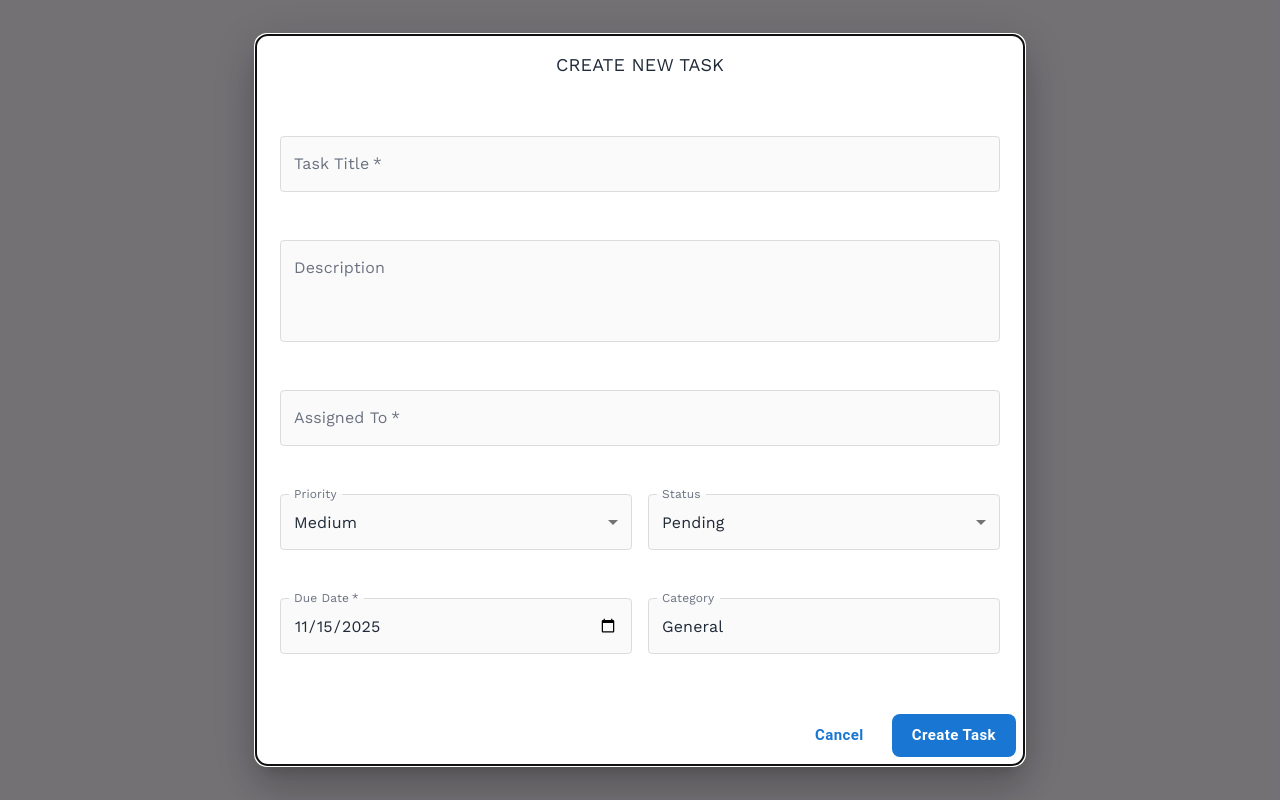
Scenario: CreateTodoDialog › displays error message when creation fails
Note: Fill required fields
Type "Test Task" into the field labelled "Task Title *".
click(640, 164); type("Test Task")  # box top-left (280, 136), bottom-right (1000, 192)
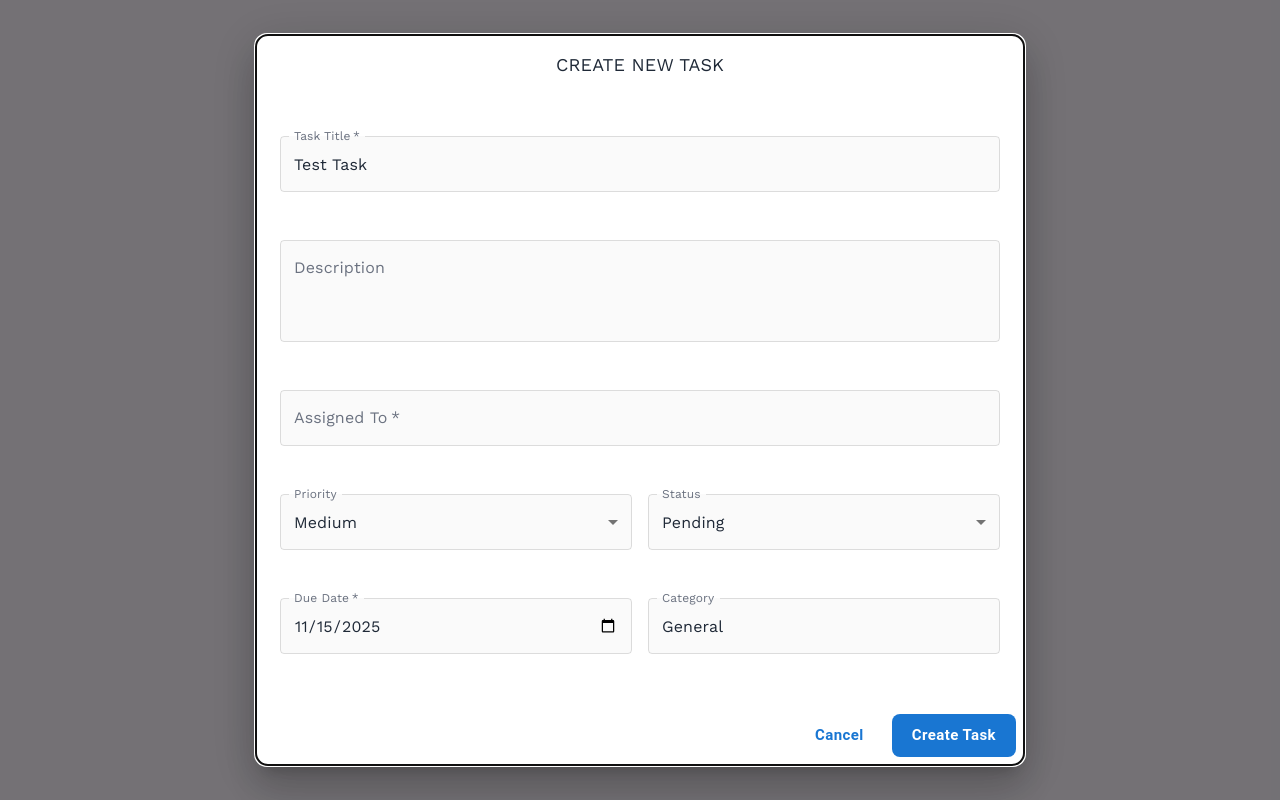
Type "John Doe" into the field labelled "Assigned To *".
click(640, 418); type("John Doe")  # box top-left (280, 390), bottom-right (1000, 446)
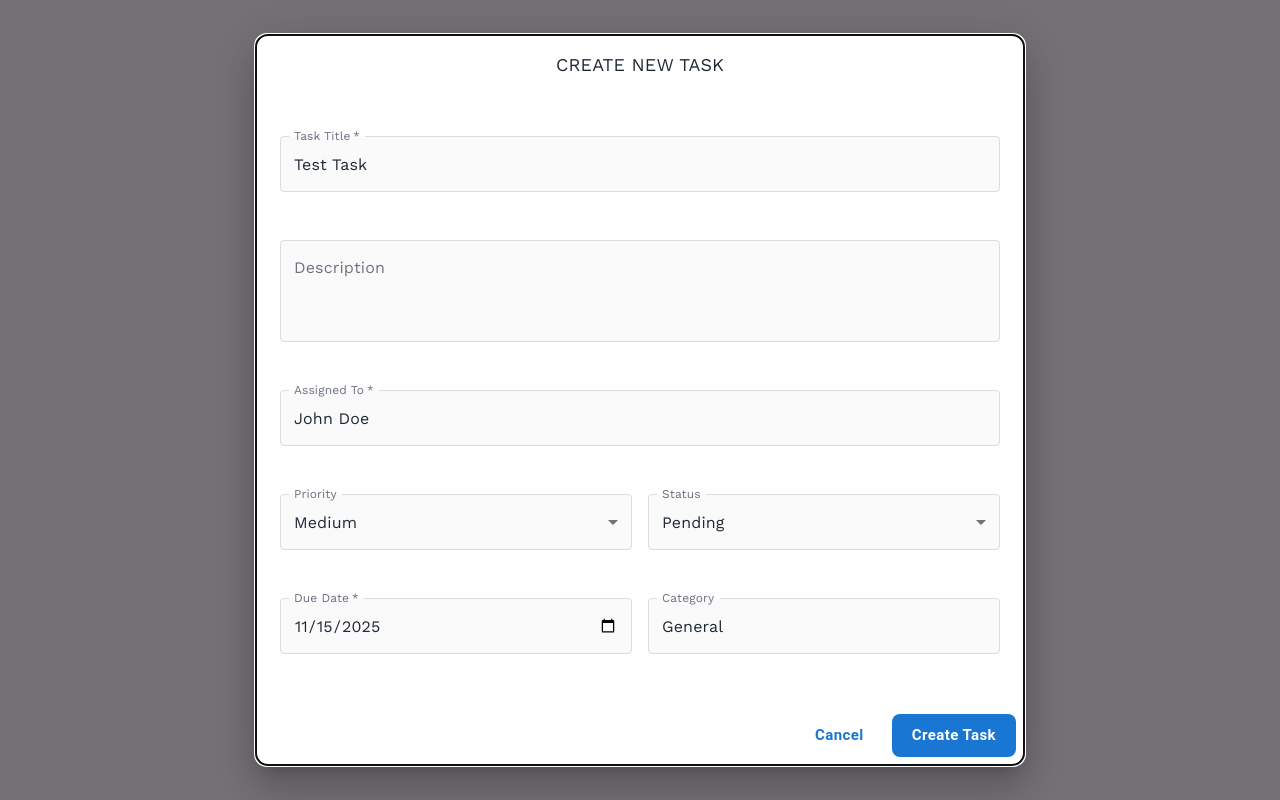
Click the button "Create Task".
click(954, 735)  # box top-left (892, 714), bottom-right (1016, 757)
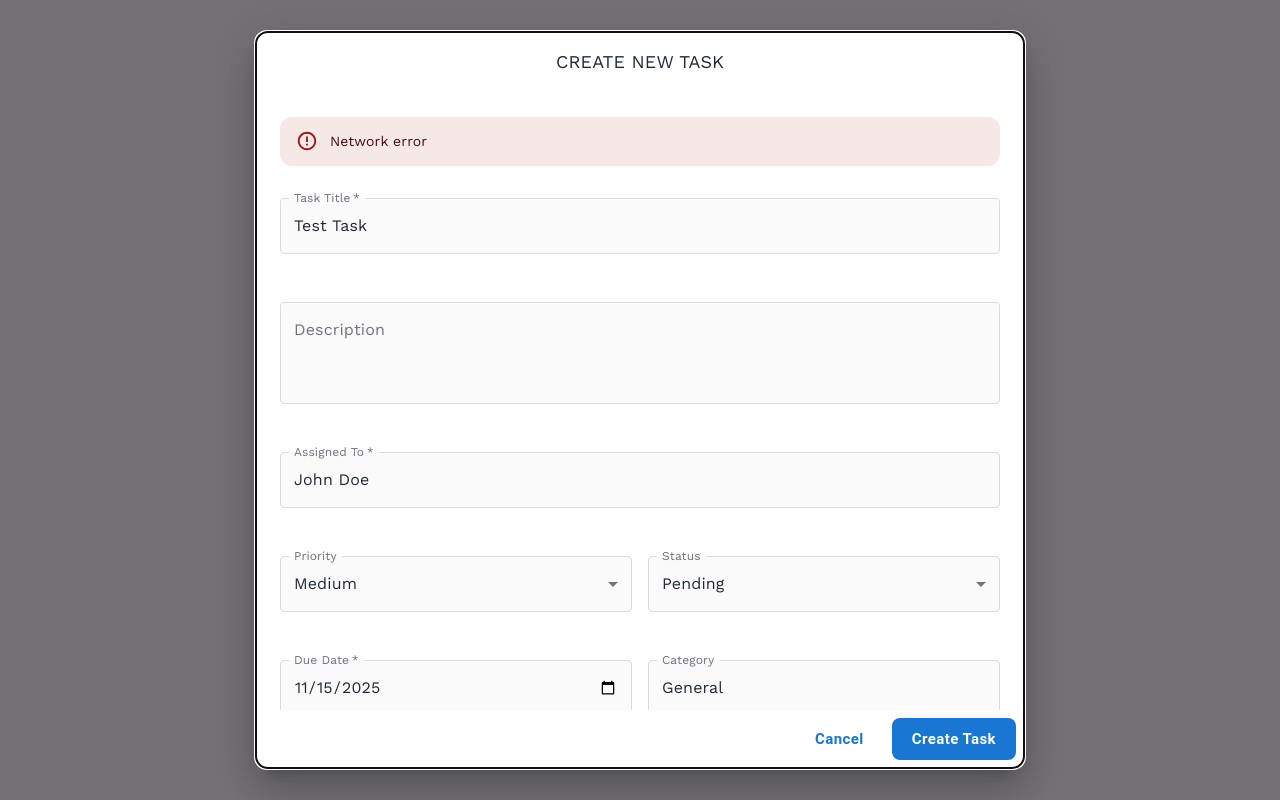
Result: the text "Network error" is shown at top-left (330, 133), bottom-right (427, 149)
